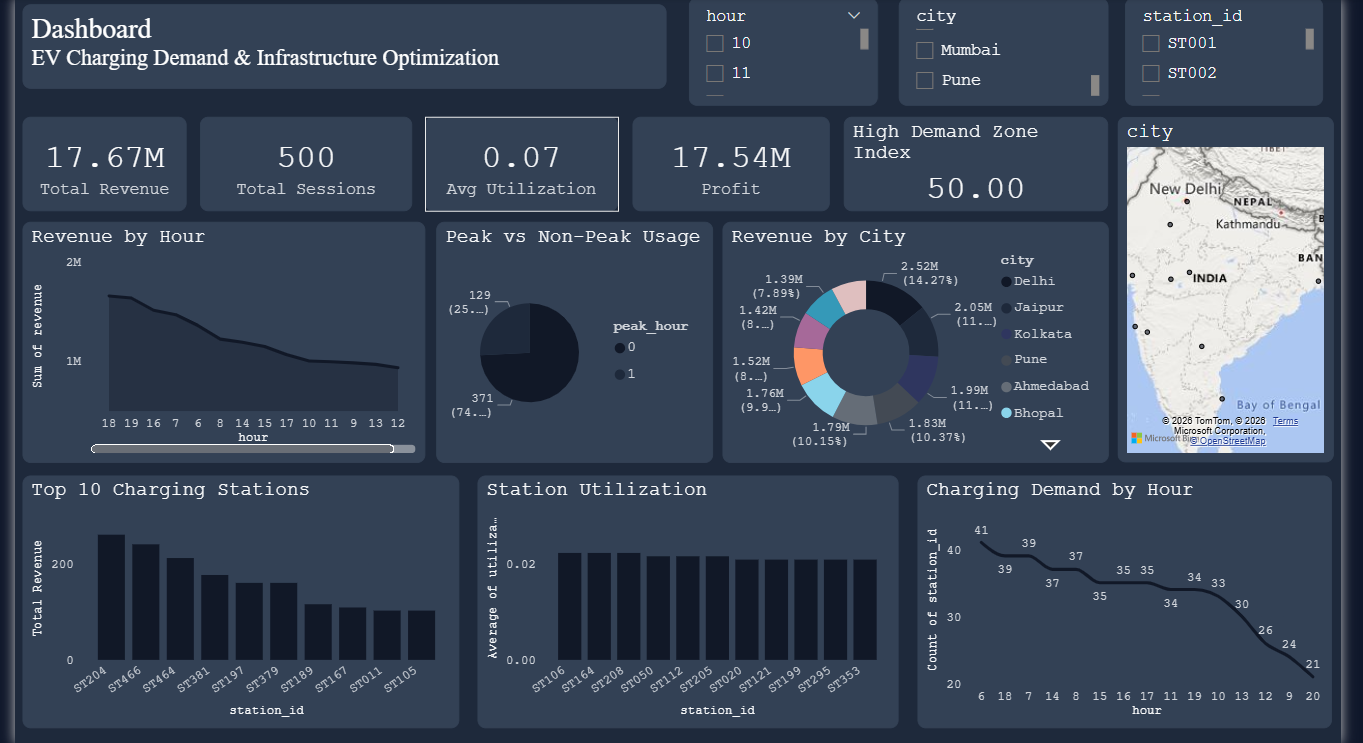

The dashboard page shown, as its layout file describes it:
{"tool":"powerbi","page":{"name":"Dashboard","canvas":[1280,720],"ordinal":0},"visuals":[{"type":"card","fields":{"Values":["ev_data.Total Revenue"]},"box":[7.5,115,158.8,91.2],"z":0},{"type":"card","fields":{"Values":["ev_data.Total Sessions"]},"box":[178.8,115,205,91.2],"z":1000},{"type":"card","fields":{"Values":["ev_data.Avg Utilization"]},"box":[396.2,115,186.2,91.2],"z":2000},{"type":"card","fields":{"Values":["ev_data.Profit"]},"box":[596.2,115,190,91.2],"z":3000},{"type":"lineChart","title":"Charging Demand by Hour","fields":{"Category":["ev_data.hour"],"Y":["CountNonNull(ev_data.station_id)"]},"box":[871.2,461.2,400,243.8],"z":4000},{"type":"areaChart","title":"Revenue by Hour","fields":{"Category":["ev_data.hour"],"Y":["Sum(ev_data.revenue)"]},"box":[7.5,216.2,388.8,232.5],"z":5000},{"type":"columnChart","title":"Top 10 Charging Stations","fields":{"Category":["ev_data.station_id"],"Y":["ev_data.Total Revenue"]},"box":[7.5,461.2,421.2,243.8],"z":6000},{"type":"donutChart","title":"Revenue by City","fields":{"Category":["ev_data.city"],"Y":["Sum(ev_data.revenue)"]},"box":[682.5,216.2,372.5,232.5],"z":7000},{"type":"columnChart","title":"Station Utilization","fields":{"Category":["ev_data.station_id"],"Y":["Avg(ev_data.utilization)"]},"box":[446.2,461.2,406.2,243.8],"z":8000},{"type":"pieChart","title":"Peak vs Non-Peak Usage","fields":{"Category":["ev_data.peak_hour"],"Y":["CountNonNull(ev_data.station_id)"]},"box":[406.2,216.2,267.5,232.5],"z":9000},{"type":"slicer","fields":{"Values":["ev_data.hour"]},"box":[650,0,182.5,103.8],"z":10000},{"type":"slicer","fields":{"Values":["ev_data.city"]},"box":[852.5,0,202.5,103.8],"z":11000},{"type":"slicer","fields":{"Values":["ev_data.station_id"]},"box":[1071.2,0,191.2,103.8],"z":12000},{"type":"map","fields":{"Category":["ev_data.city"]},"box":[1063.8,115,208.8,333.8],"z":13000},{"type":"card","title":"High Demand Zone Index","fields":{"Values":["ev_data.HDI"]},"box":[800,115,255,91.2],"z":14000},{"type":"textbox","box":[7.5,6.2,621.2,81.2],"z":15000}]}

Visuals, with their boxes on the page's 1280x720 design canvas (x1, y1, x2, y2). These are canvas units, not pixel positions in the 1363x743 screenshot, which may show the page scaled, cropped or inside an application window:
card - ev_data.Total Revenue: <region>8, 115, 166, 206</region>
card - ev_data.Total Sessions: <region>179, 115, 384, 206</region>
card - ev_data.Avg Utilization: <region>396, 115, 582, 206</region>
card - ev_data.Profit: <region>596, 115, 786, 206</region>
"Charging Demand by Hour" lineChart: <region>871, 461, 1271, 705</region>
"Revenue by Hour" areaChart: <region>8, 216, 396, 449</region>
"Top 10 Charging Stations" columnChart: <region>8, 461, 429, 705</region>
"Revenue by City" donutChart: <region>682, 216, 1055, 449</region>
"Station Utilization" columnChart: <region>446, 461, 852, 705</region>
"Peak vs Non-Peak Usage" pieChart: <region>406, 216, 674, 449</region>
slicer - ev_data.hour: <region>650, 0, 832, 104</region>
slicer - ev_data.city: <region>852, 0, 1055, 104</region>
slicer - ev_data.station_id: <region>1071, 0, 1262, 104</region>
map - ev_data.city: <region>1064, 115, 1273, 449</region>
"High Demand Zone Index" card: <region>800, 115, 1055, 206</region>
textbox: <region>8, 6, 629, 87</region>
